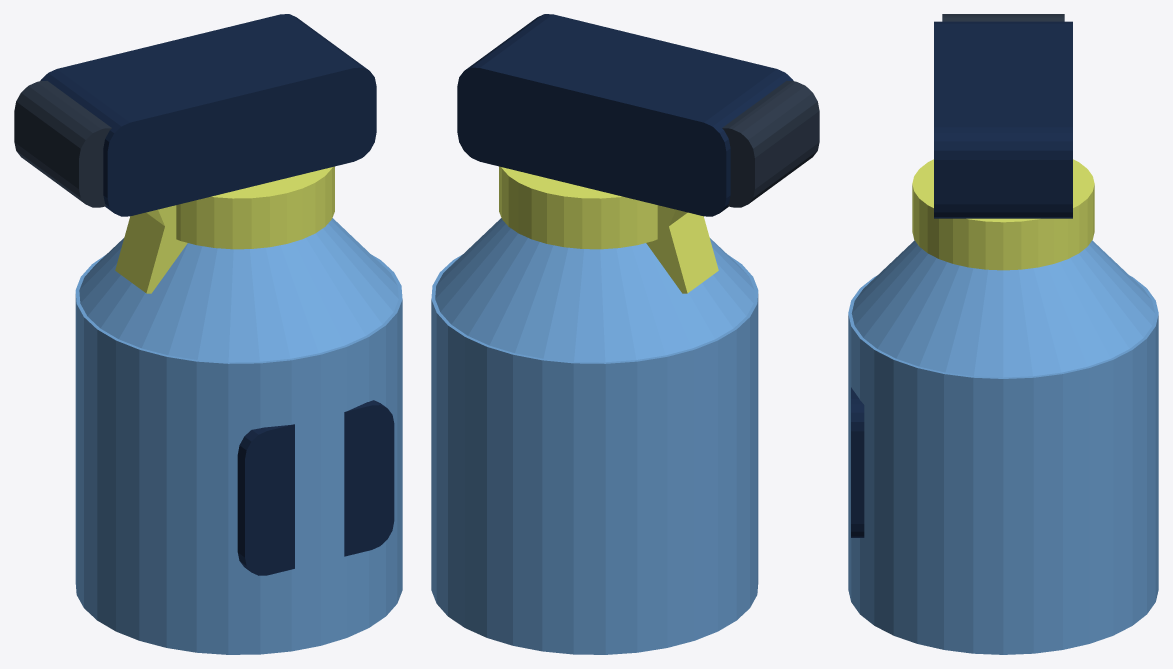
File: lensbottle.glb
The picture shows the model from 3 angles, left to right: view 1: azimuth 30°, elevation 25°; view 2: azimuth 150°, elevation 25°; view 3: azimuth 270°, elevation 25°; orthographic projection. The views are drawn at different scales.
Parts seen in each view (by area): view 1: bottle, sprayer, shoulder, label, collar, nozzle, trigger; view 2: bottle, sprayer, shoulder, collar, nozzle, trigger; view 3: bottle, shoulder, sprayer, collar, label, nozzle.
Part boxes in pixels (x1,y1,x2,y2): bottle: [75, 255, 402, 654]; sprayer: [40, 14, 376, 216]; shoulder: [79, 218, 398, 362]; label: [237, 400, 394, 575]; collar: [176, 166, 334, 249]; nozzle: [14, 81, 111, 207]; trigger: [115, 205, 187, 293]; bottle: [431, 255, 758, 654]; sprayer: [457, 14, 793, 216]; shoulder: [435, 218, 754, 362]; collar: [499, 166, 657, 249]; nozzle: [722, 81, 819, 207]; trigger: [646, 205, 718, 293]; bottle: [848, 276, 1158, 654]; shoulder: [851, 240, 1155, 377]; sprayer: [934, 21, 1072, 218]; collar: [912, 159, 1094, 270]; label: [851, 387, 864, 537]; nozzle: [942, 14, 1064, 21].
Bounding box in the file's own units: 0.895 × 1.34 × 0.76.
